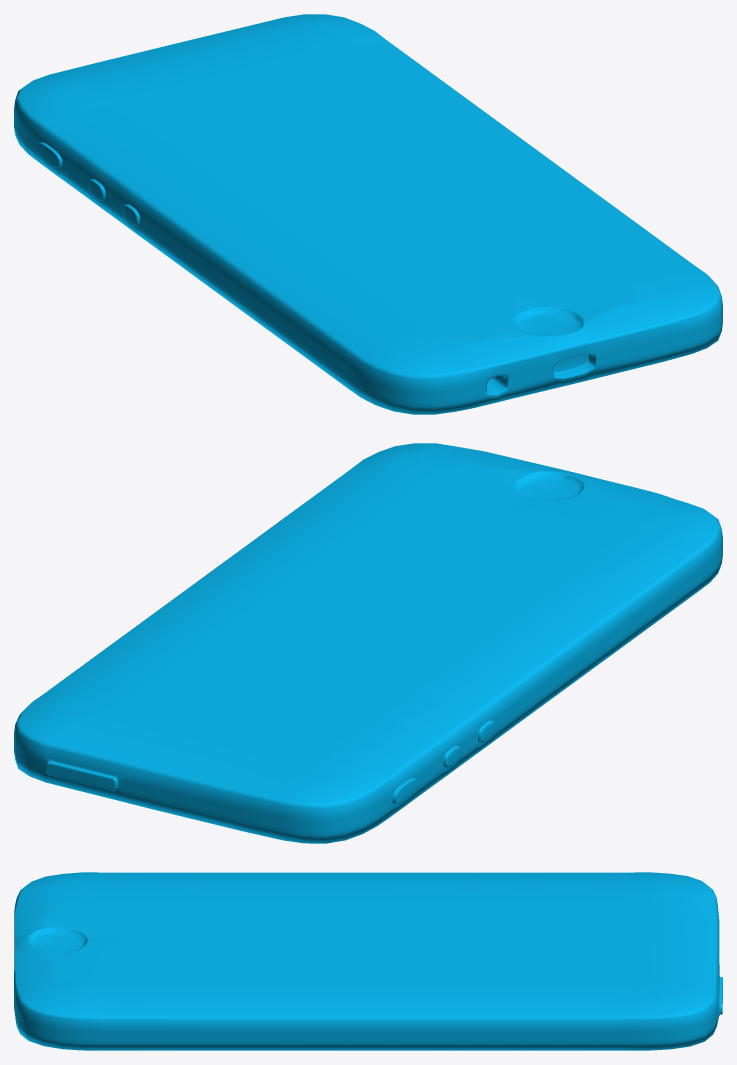
The model's file is PHONE_MESH.FBX.
The picture shows the model from 3 angles, top to bottom: view 1: azimuth 30°, elevation 25°; view 2: azimuth 150°, elevation 25°; view 3: azimuth 270°, elevation 25°; orthographic projection. The views are drawn at different scales.
Parts seen in each view (by area): view 1: PhoneMesh; view 2: PhoneMesh; view 3: PhoneMesh.
Boxes of the visible parts, x1=… form: PhoneMesh: x1=14, y1=14, x2=722, y2=414; PhoneMesh: x1=14, y1=443, x2=722, y2=843; PhoneMesh: x1=14, y1=872, x2=722, y2=1050.
Size of the model in its own units: 13.19 by 1.91 by 26.56.
